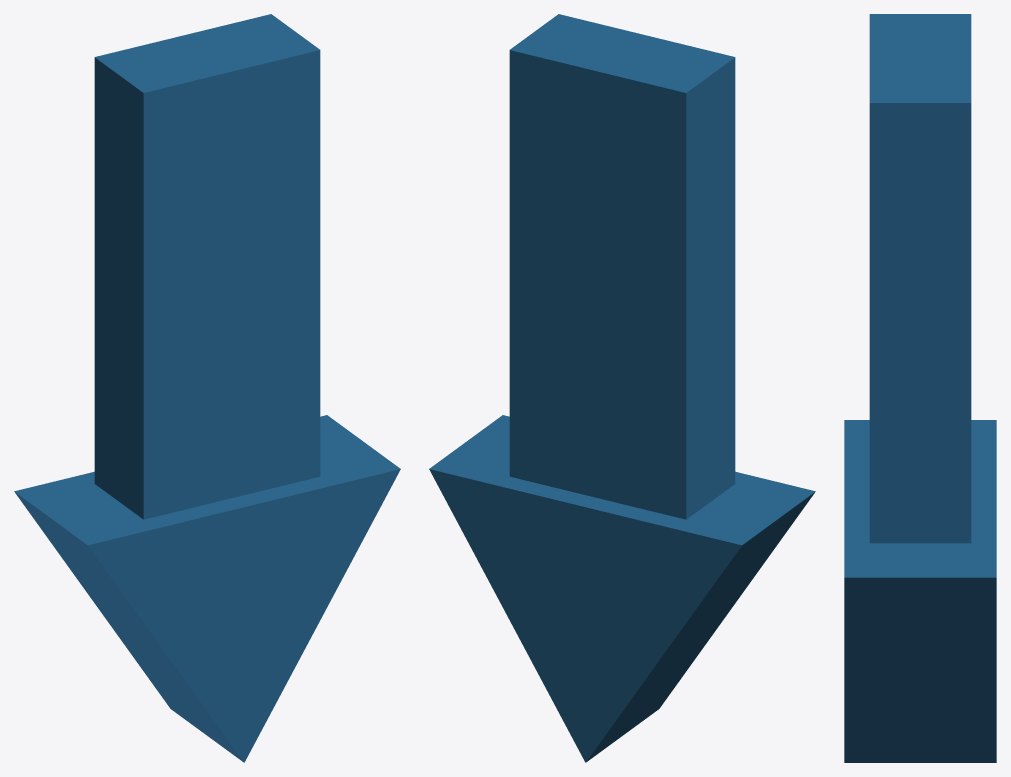
Rendered from Mui ten.fbx.
3 views of the same model, side by side, from view 1: azimuth 30°, elevation 25°; view 2: azimuth 150°, elevation 25°; view 3: azimuth 270°, elevation 25° (orthographic). The views are drawn at different scales.
Parts seen in each view (by area): view 1: Mui ten; view 2: Mui ten; view 3: Mui ten.
Boxes of the visible parts, box(x1,y1,x2,y2) form: Mui ten: box(14, 14, 400, 762); Mui ten: box(429, 14, 815, 762); Mui ten: box(844, 14, 996, 762).
Bounding box in the file's own units: 221 × 461 × 90.34.
